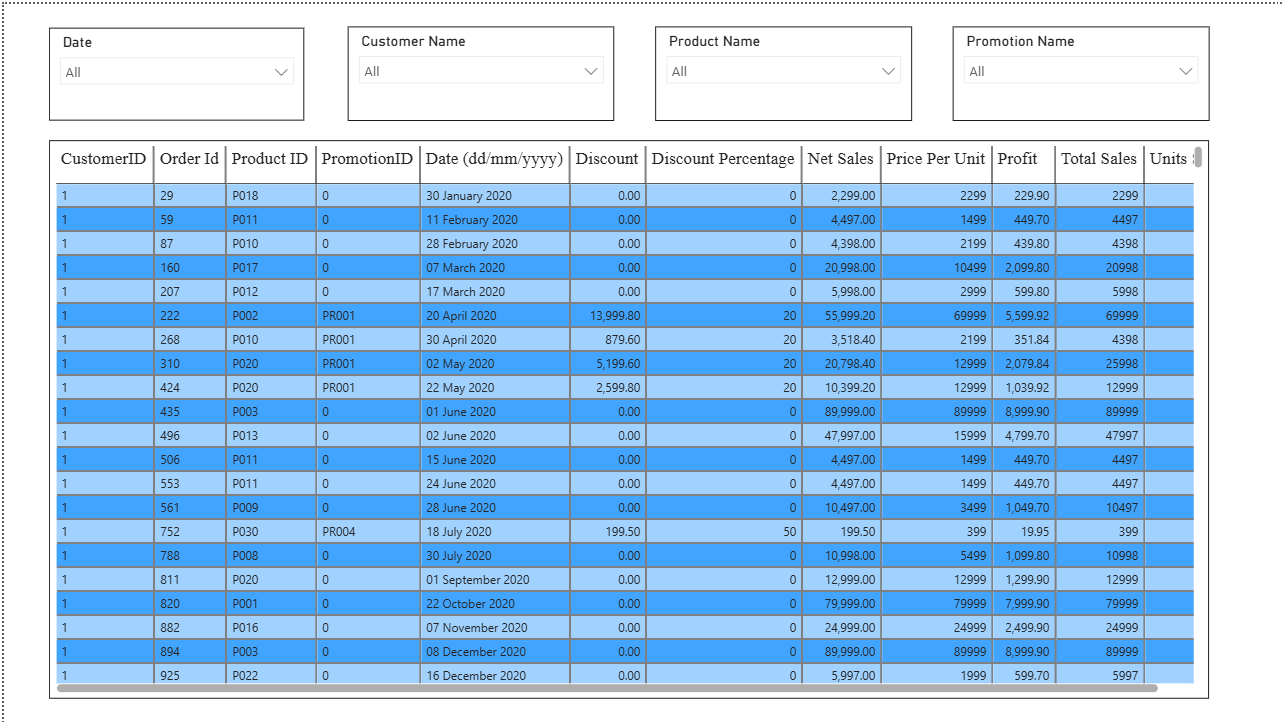

What the dashboard file says about the page in this screenshot:
{"tool":"powerbi","page":{"name":"Table Visual","canvas":[1280,720],"ordinal":4},"visuals":[{"type":"tableEx","fields":{"Values":["Fact Table.CustomerID","Fact Table.Order Id","Fact Table.Product ID","Fact Table.PromotionID","Fact Table.Date (dd/mm/yyyy)","Fact Table.Discount Value    ","Fact Table.Discount Percentage","Fact Table.Net Sales    ","Fact Table.Price Per Unit","Fact Table.Profit","Fact Table.Total Sales     ","Fact Table.Units Sold"]},"box":[45,136.2,1160,558.8],"z":0},{"type":"slicer","fields":{"Values":["Date Table1.Date"]},"box":[45.2,23.2,255.6,92.9],"z":1000},{"type":"slicer","fields":{"Values":["Dim Customers.Customer Name"]},"box":[343.6,22,266.6,94.2],"z":2000},{"type":"slicer","fields":{"Values":["Dim Product.Product Name"]},"box":[651.8,22,256.8,94.2],"z":3000},{"type":"slicer","fields":{"Values":["Dim Promotion.Promotion Name"]},"box":[948.9,22,256.8,94.2],"z":4000}]}

Visuals, with their boxes in screenshot pixels (x1, y1, x2, y2), scaled from the page's 1280x720 canvas onto the 1282x722 screenshot:
tableEx - Fact Table.CustomerID x Fact Table.Order Id: left=45, top=137, right=1207, bottom=697
slicer - Date Table1.Date: left=45, top=23, right=301, bottom=116
slicer - Dim Customers.Customer Name: left=344, top=22, right=611, bottom=117
slicer - Dim Product.Product Name: left=653, top=22, right=910, bottom=117
slicer - Dim Promotion.Promotion Name: left=950, top=22, right=1208, bottom=117
